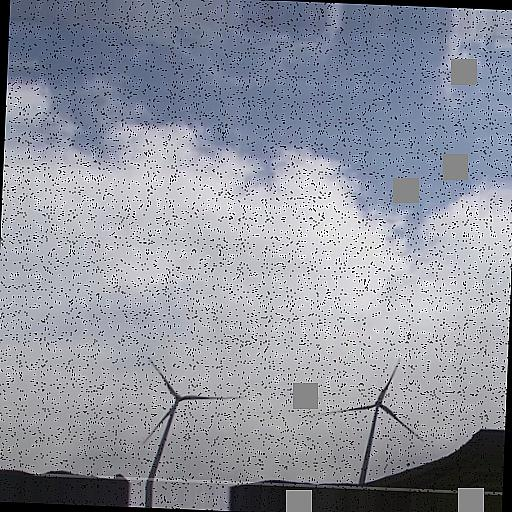wind turbine: (139, 354, 244, 480), (322, 358, 427, 484)
